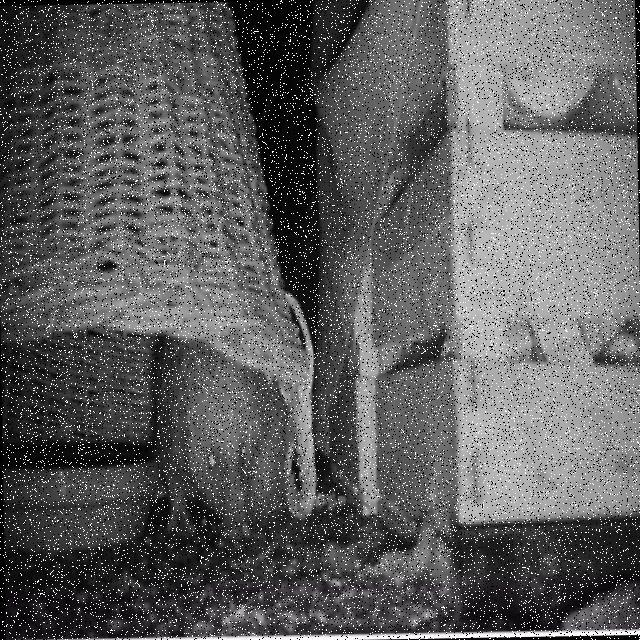Hedgehog: (167, 336, 290, 550)
